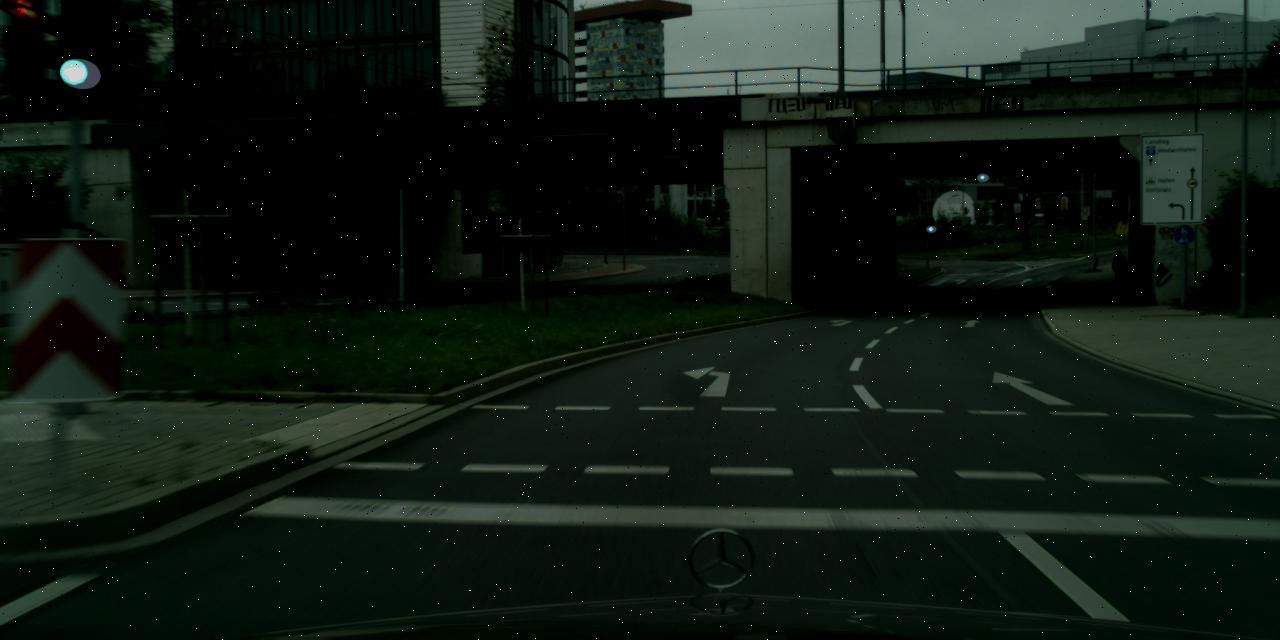ped: (1110, 249, 1127, 292)
